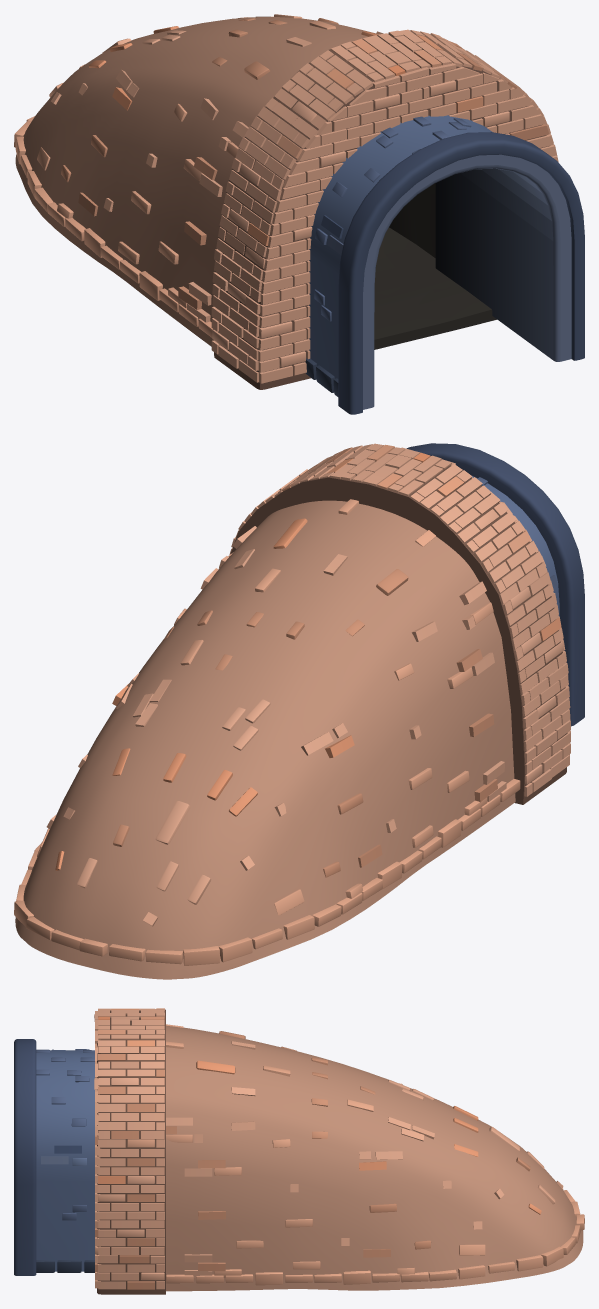
The model's file is Tunnel.fbx.
3 renders of one model, top to bottom at view 1: azimuth 30°, elevation 25°; view 2: azimuth 150°, elevation 25°; view 3: azimuth 270°, elevation 25°, orthographic. The views are drawn at different scales.
Visible parts, largest first — view 1: Box004, Box161, Box001, Tunnel; view 2: Box004, Box161, Tunnel, Box001; view 3: Box004, Box161, Box001, Tunnel.
Part boxes in pixels (<box>): Box004: <box>15,17,496,349</box>; Box161: <box>211,14,558,389</box>; Box001: <box>309,115,584,414</box>; Tunnel: <box>14,16,471,396</box>; Box004: <box>15,500,515,979</box>; Box161: <box>180,443,570,804</box>; Tunnel: <box>14,477,556,965</box>; Box001: <box>406,443,584,726</box>; Box004: <box>166,1025,583,1291</box>; Box161: <box>94,1008,373,1294</box>; Box001: <box>14,1039,94,1275</box>; Tunnel: <box>36,1031,584,1285</box>.
Bounding box in the file's own units: 909 × 783 × 1883.
